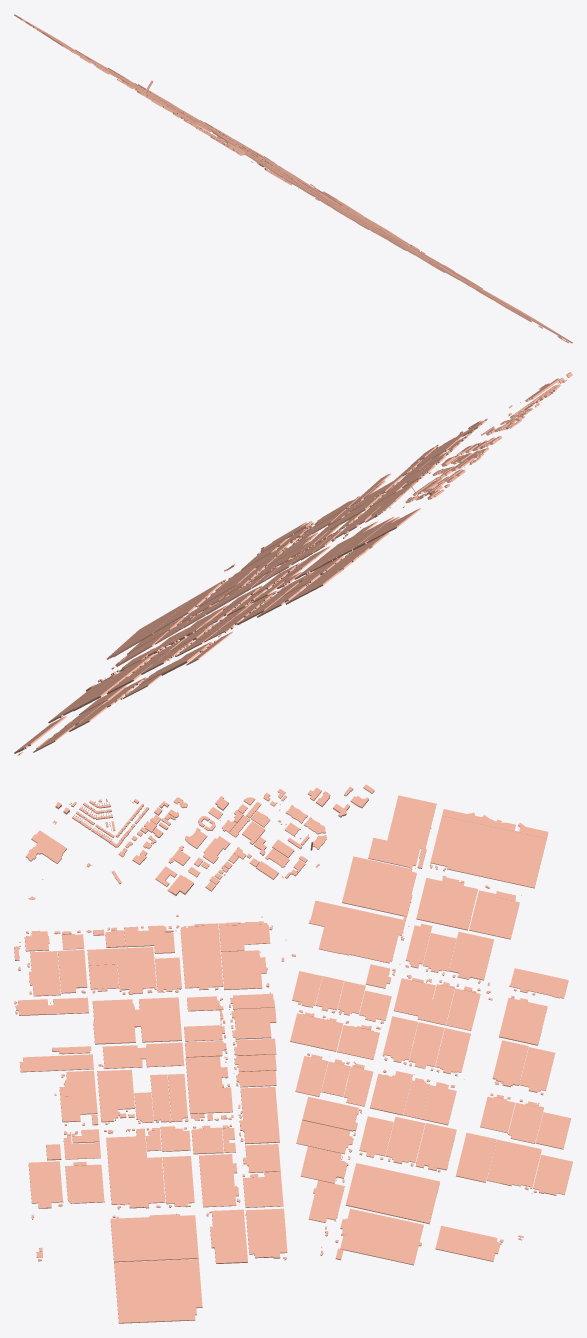
3 views of the same model, one above another, from view 1: azimuth 30°, elevation 25°; view 2: azimuth 150°, elevation 25°; view 3: azimuth 270°, elevation 25° (orthographic). The views are drawn at different scales.
Bounding box in the file's own units: 2246 × 1684 × 2561.
